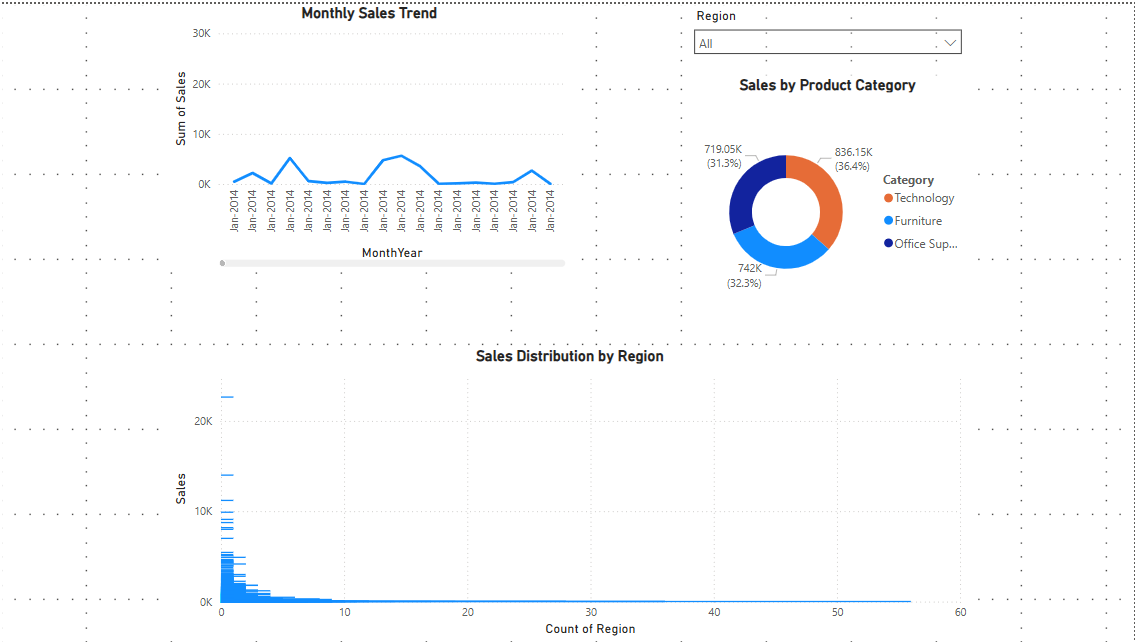

This screenshot's page, from the dashboard's own definition file:
{"tool":"powerbi","page":{"name":"Page 1","canvas":[1280,720],"ordinal":0},"visuals":[{"type":"lineChart","title":"Monthly Sales Trend","fields":{"Category":["Superstore_Sales.MonthYear"],"Y":["Sum(Superstore_Sales.Sales)"]},"box":[189.5,0.1,450,300],"z":0},{"type":"barChart","title":" Sales Distribution by Region","fields":{"Y":["CountNonNull(Superstore_Sales.Region)"],"Category":["Superstore_Sales.Sales"]},"box":[189.5,384.1,900,330],"z":1000},{"type":"donutChart","title":"Sales by Product Category","fields":{"Category":["Superstore_Sales.Category"],"Y":["Sum(Superstore_Sales.Sales)"]},"box":[768,80,320,288],"z":2000},{"type":"slicer","fields":{"Values":["Superstore_Sales.Region"]},"box":[768,0,320,64],"z":3000}]}

Visuals, with their boxes in screenshot pixels (x1, y1, x2, y2), scaled from the page's 1280x720 canvas onto the 1135x642 screenshot:
"Monthly Sales Trend" lineChart: 168, 0, 567, 268
" Sales Distribution by Region" barChart: 168, 342, 966, 637
"Sales by Product Category" donutChart: 681, 71, 965, 328
slicer - Superstore_Sales.Region: 681, 0, 965, 57
